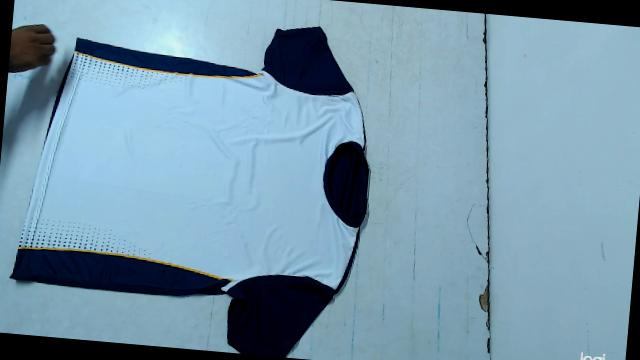new-garment: (11, 28, 369, 356)
